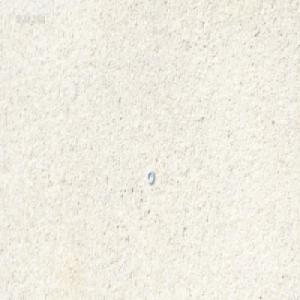Washer: (147, 169, 155, 184)
